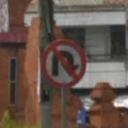NoVirarU: (38, 38, 90, 89)
